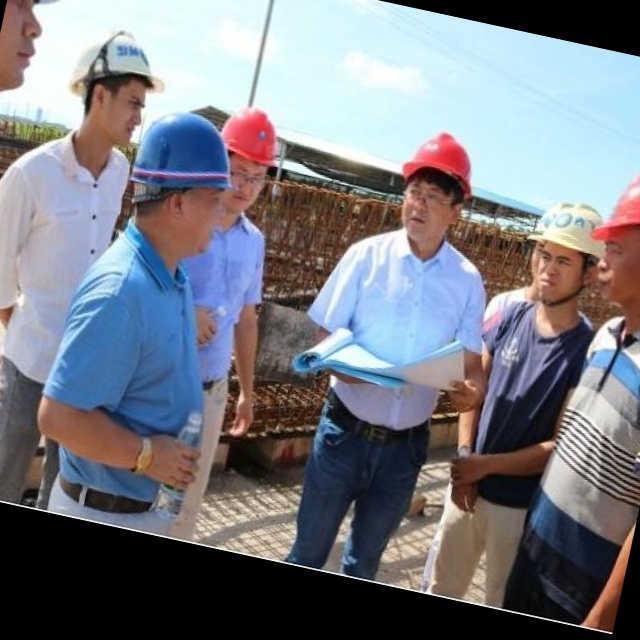Con_Casco: (392, 127, 485, 245)
Sin_Chaleco: (318, 233, 487, 424)
